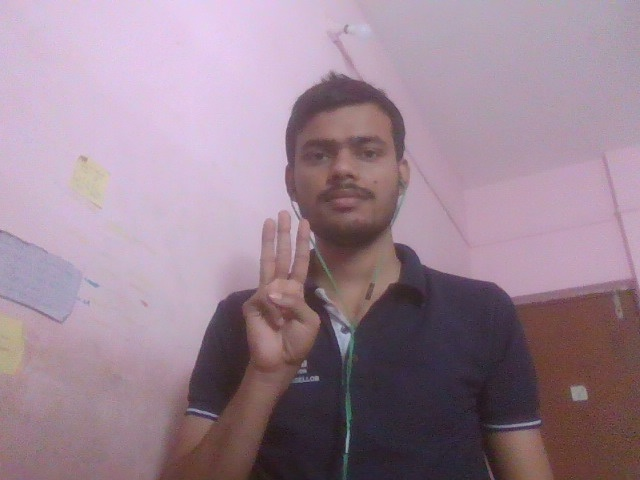Water: (165, 180, 371, 386)
